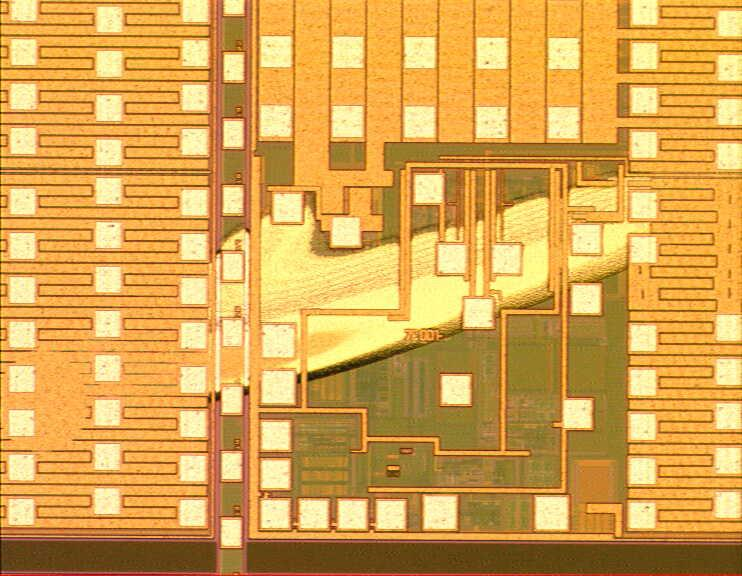BLOCK ETCH: (195, 160, 671, 409)
